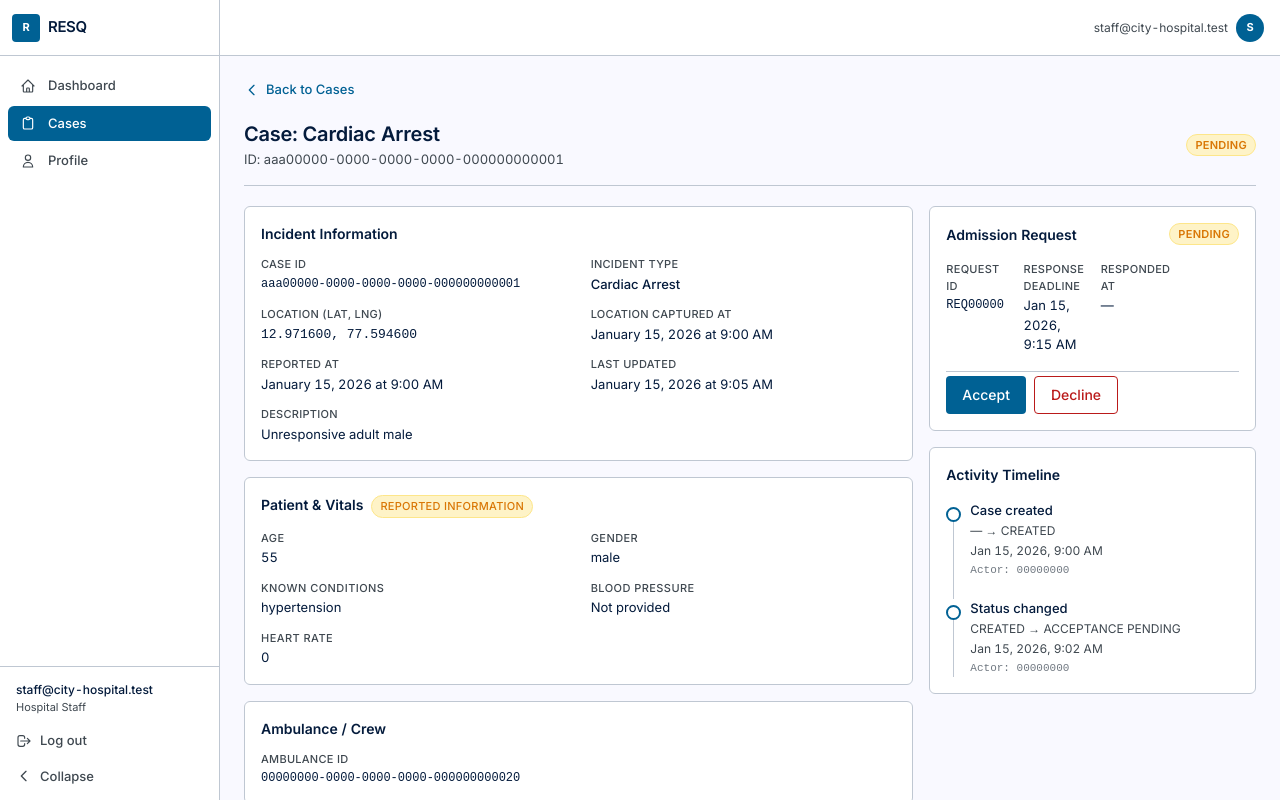
AdmissionRequestPanel — 409 conflict › shows conflict toast when 409 is returned from accept
The width and height of the screenshot is (1280, 800).
Click the button "Accept" at (986, 395), box [946,376,1026,414]
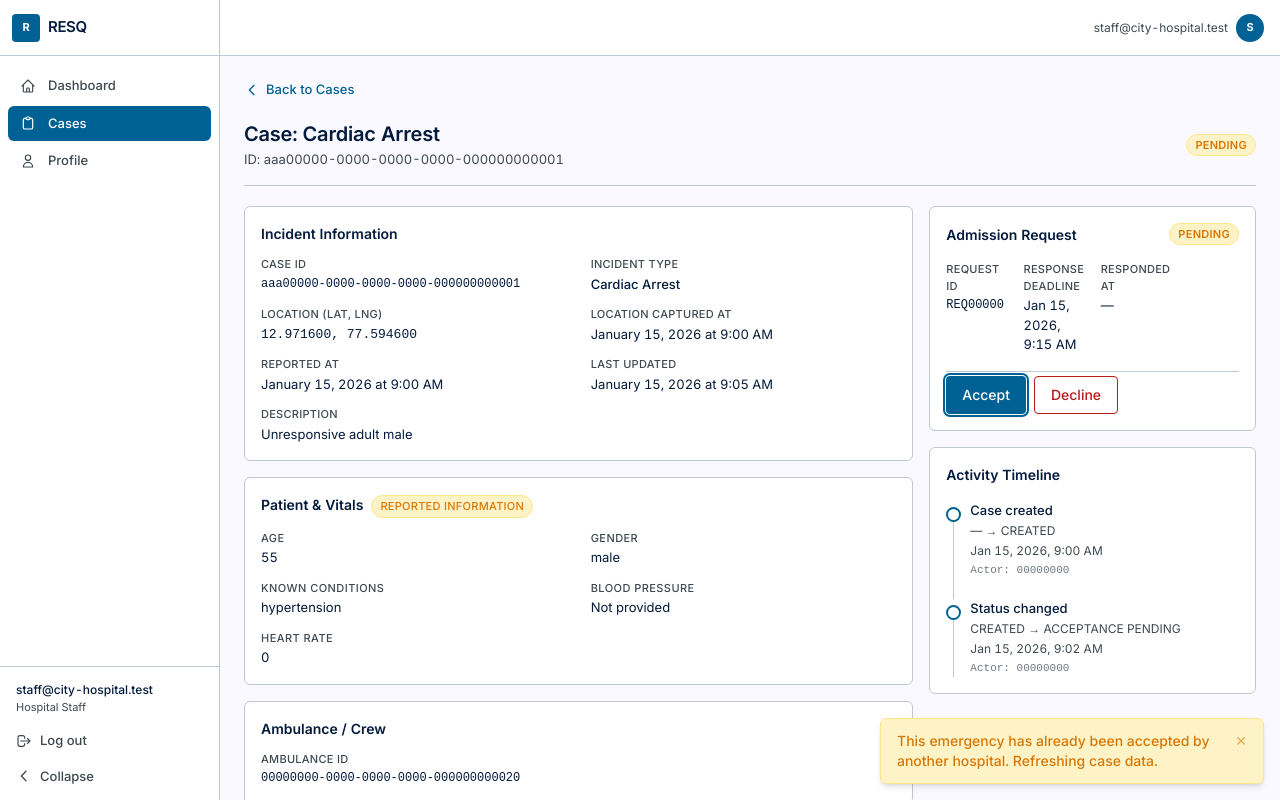
Now the text "already been accepted by another hospital" is shown, box [897,732,1210,769]
